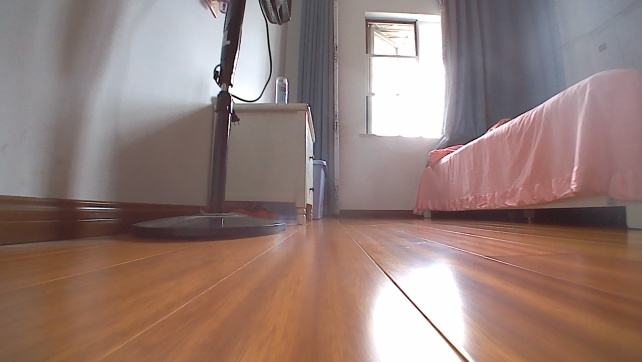bed1: (410, 62, 641, 233)
chair_base: (128, 196, 289, 244)
wire: (230, 17, 276, 103)
